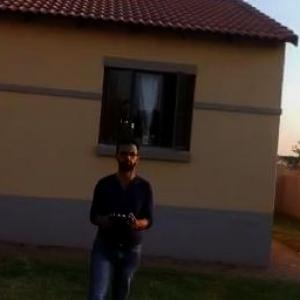follow: (81, 130, 159, 299)
